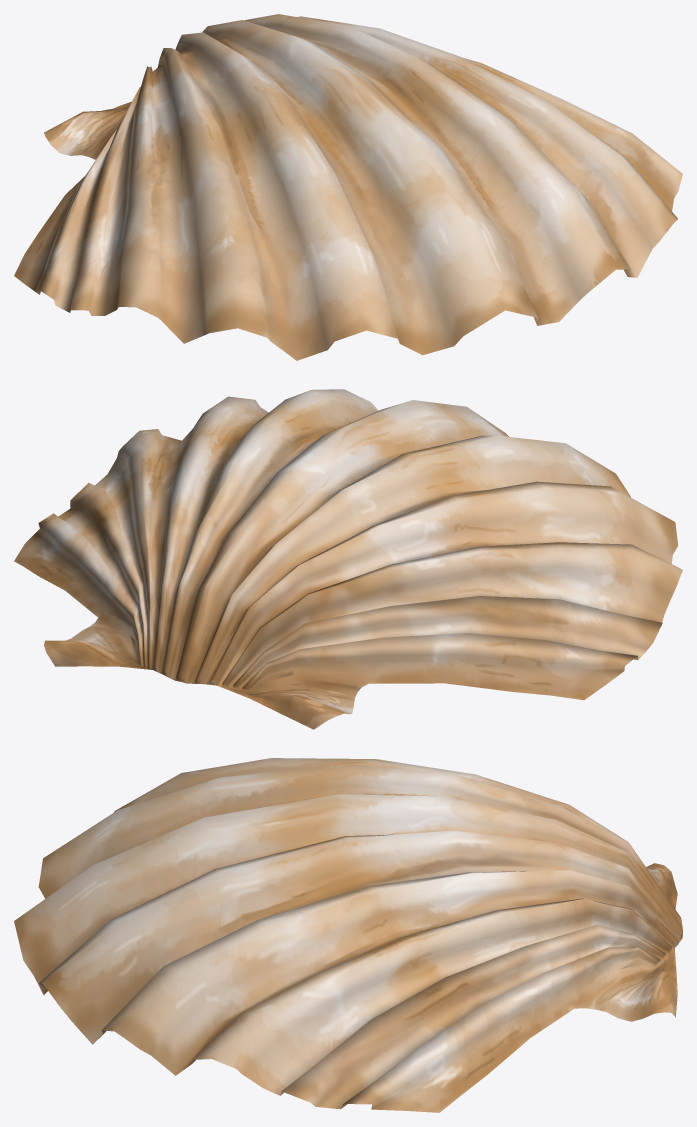
Rendered from seashell.fbx.
The picture shows the model from 3 angles, top to bottom: view 1: azimuth 30°, elevation 25°; view 2: azimuth 150°, elevation 25°; view 3: azimuth 270°, elevation 25°; orthographic projection. The views are drawn at different scales.
Parts seen in each view (by area): view 1: seashell:seashell_msh; view 2: seashell:seashell_msh; view 3: seashell:seashell_msh.
Part boxes in pixels (<box>): seashell:seashell_msh: <box>14,14,682,360</box>; seashell:seashell_msh: <box>14,389,682,729</box>; seashell:seashell_msh: <box>14,758,682,1112</box>.
Bounding box in the file's own units: 46.57 × 12.88 × 44.6.
Materials: 1 (1 with a texture image).
